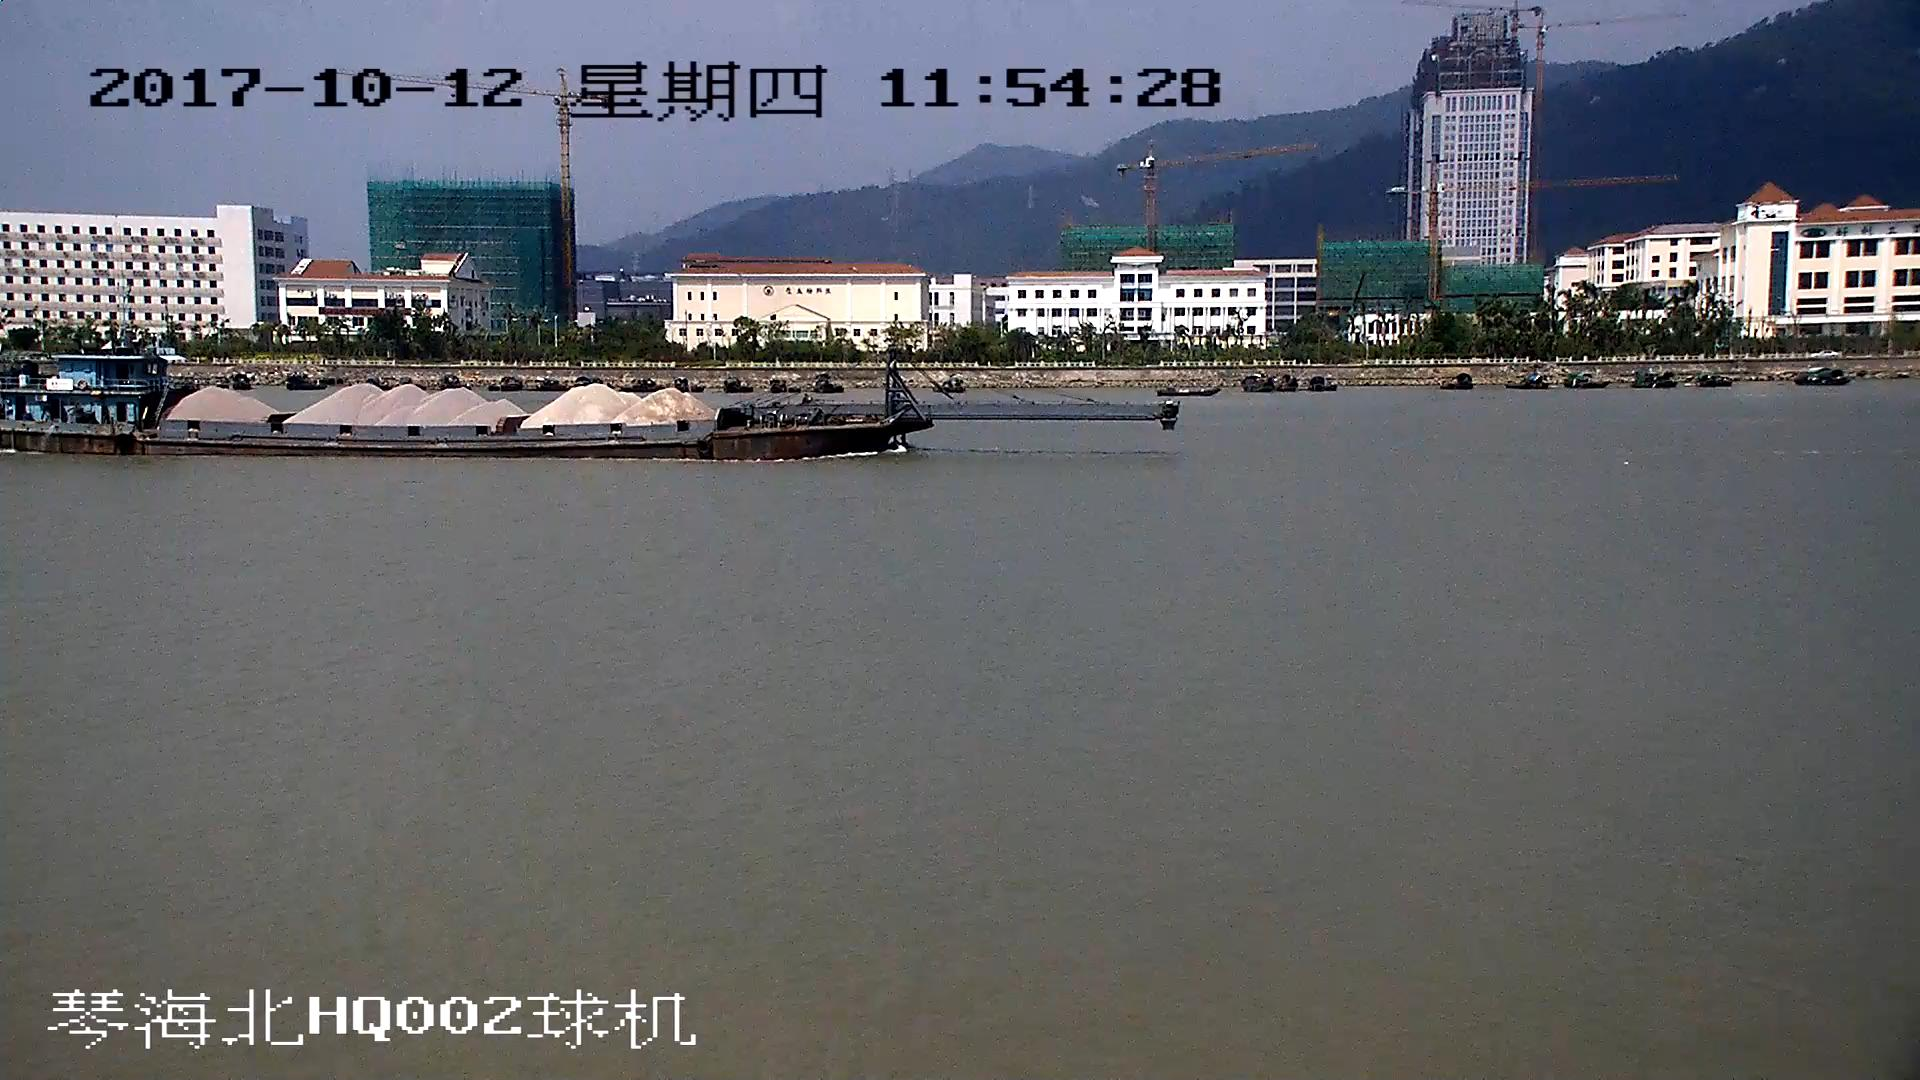ore carrier: (1, 348, 1172, 457)
